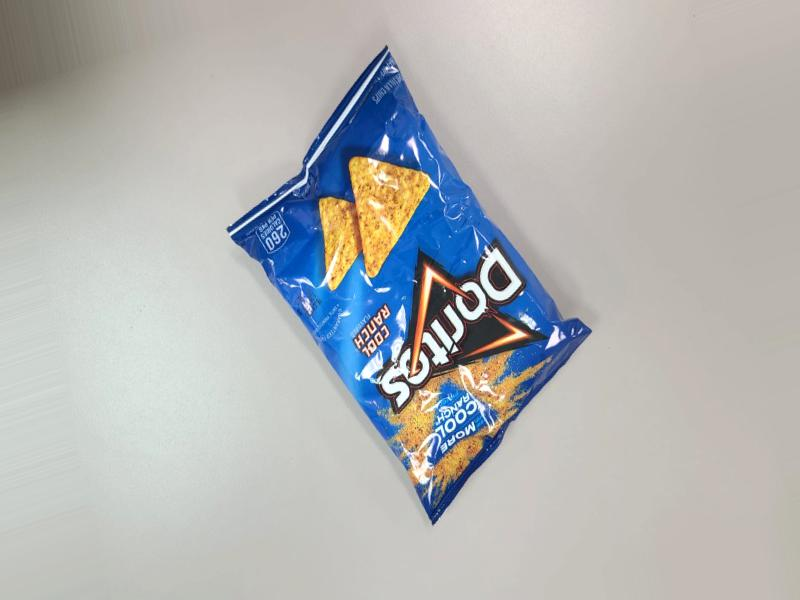doritos: (247, 84, 641, 583)
